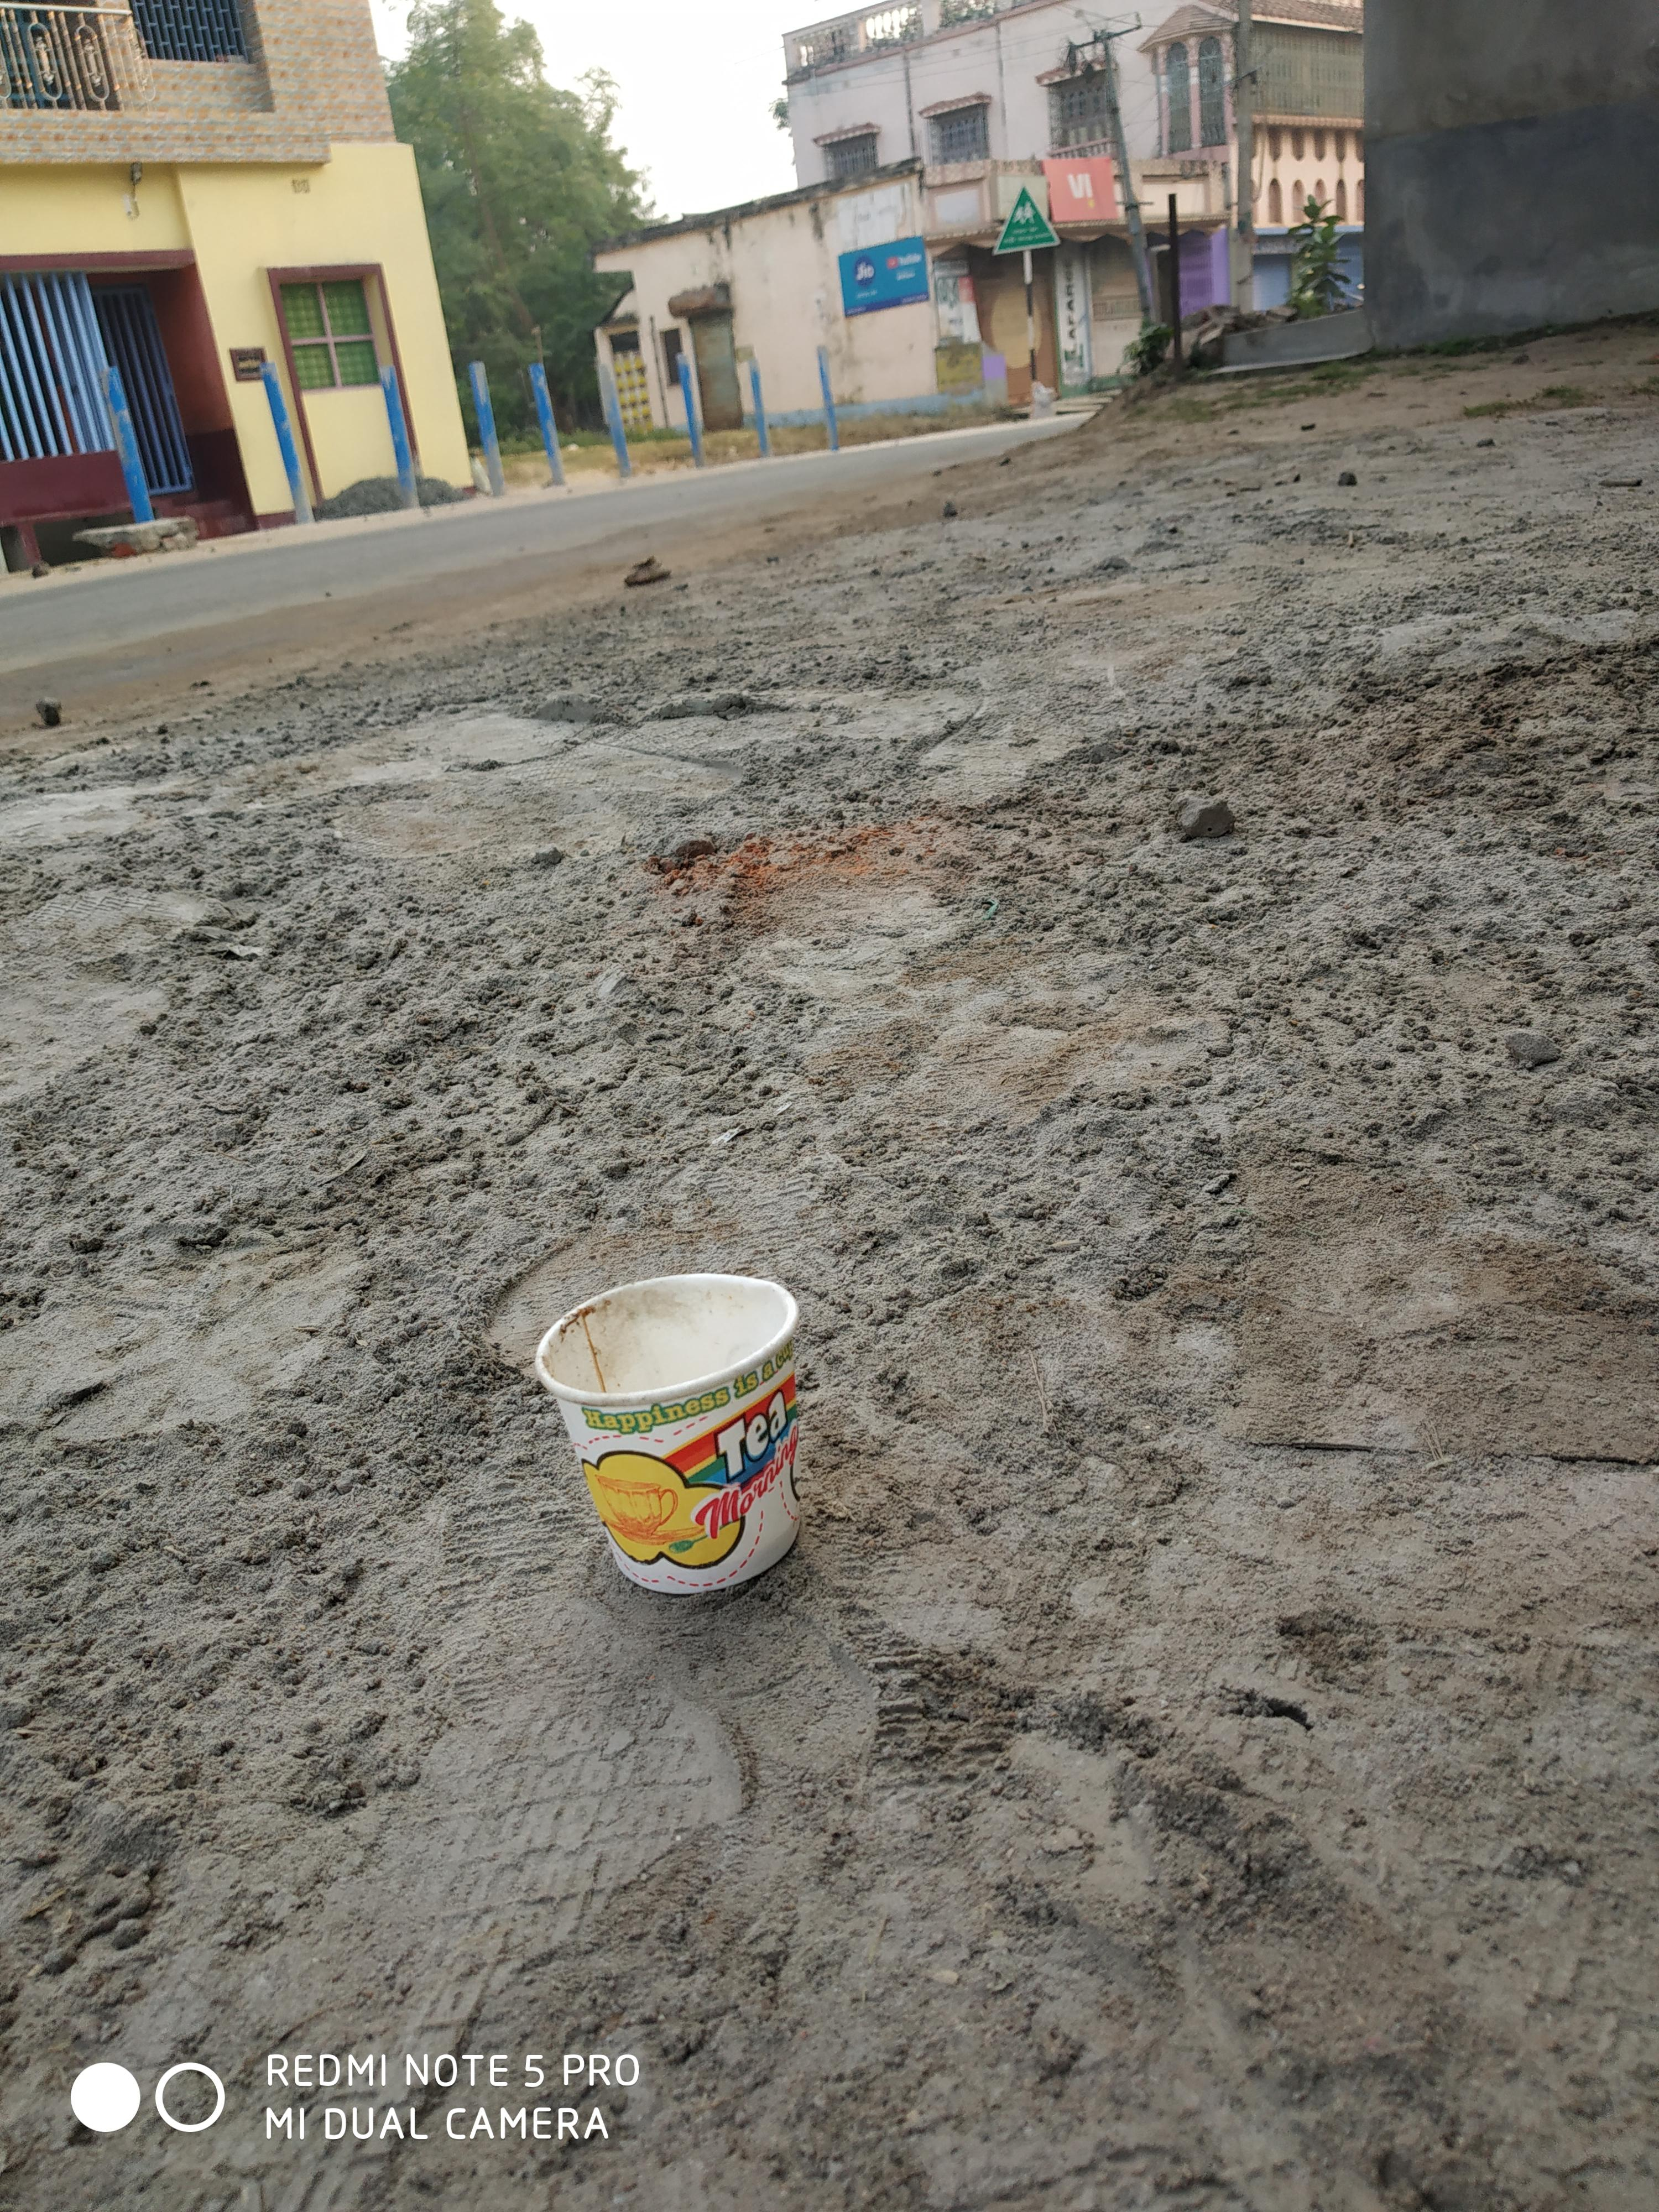trash: (530, 1262, 831, 1608)
